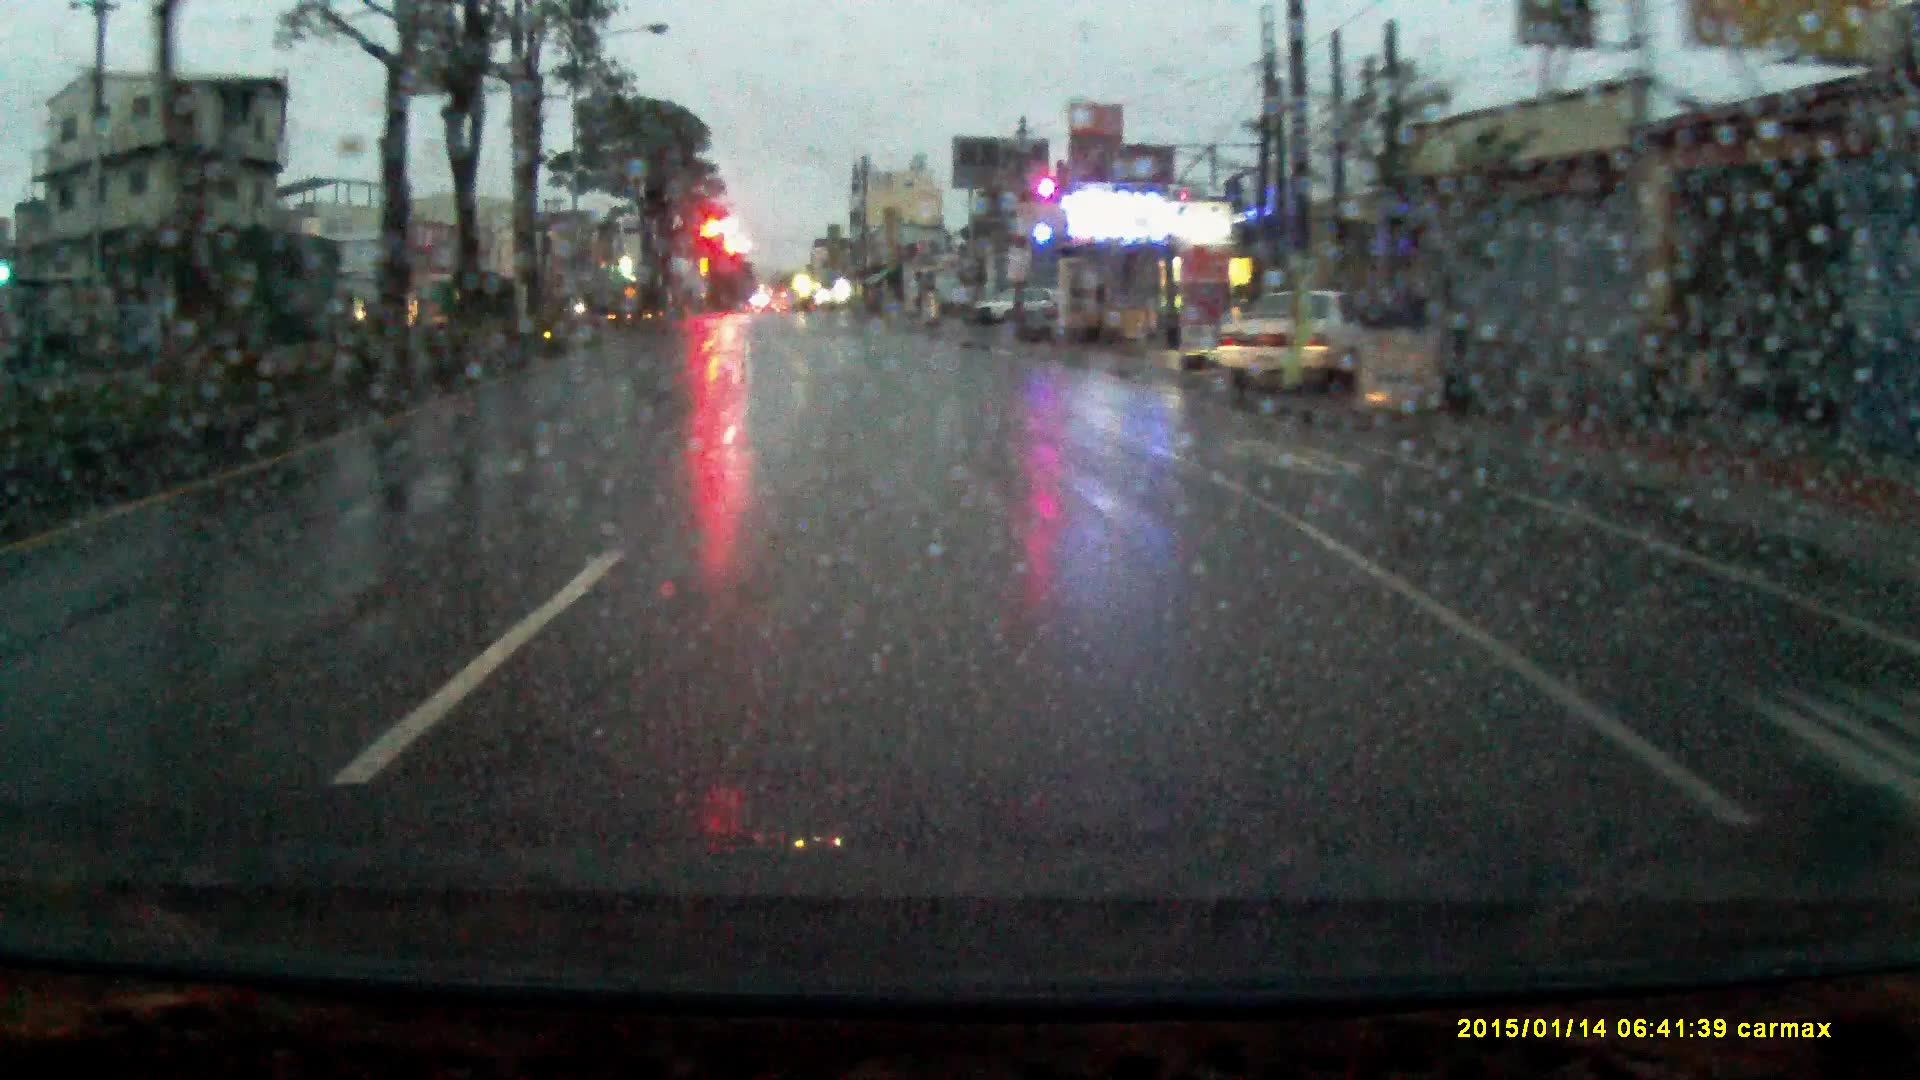vehicle: (1224, 287, 1396, 396), (976, 287, 1059, 326), (551, 290, 593, 323)
